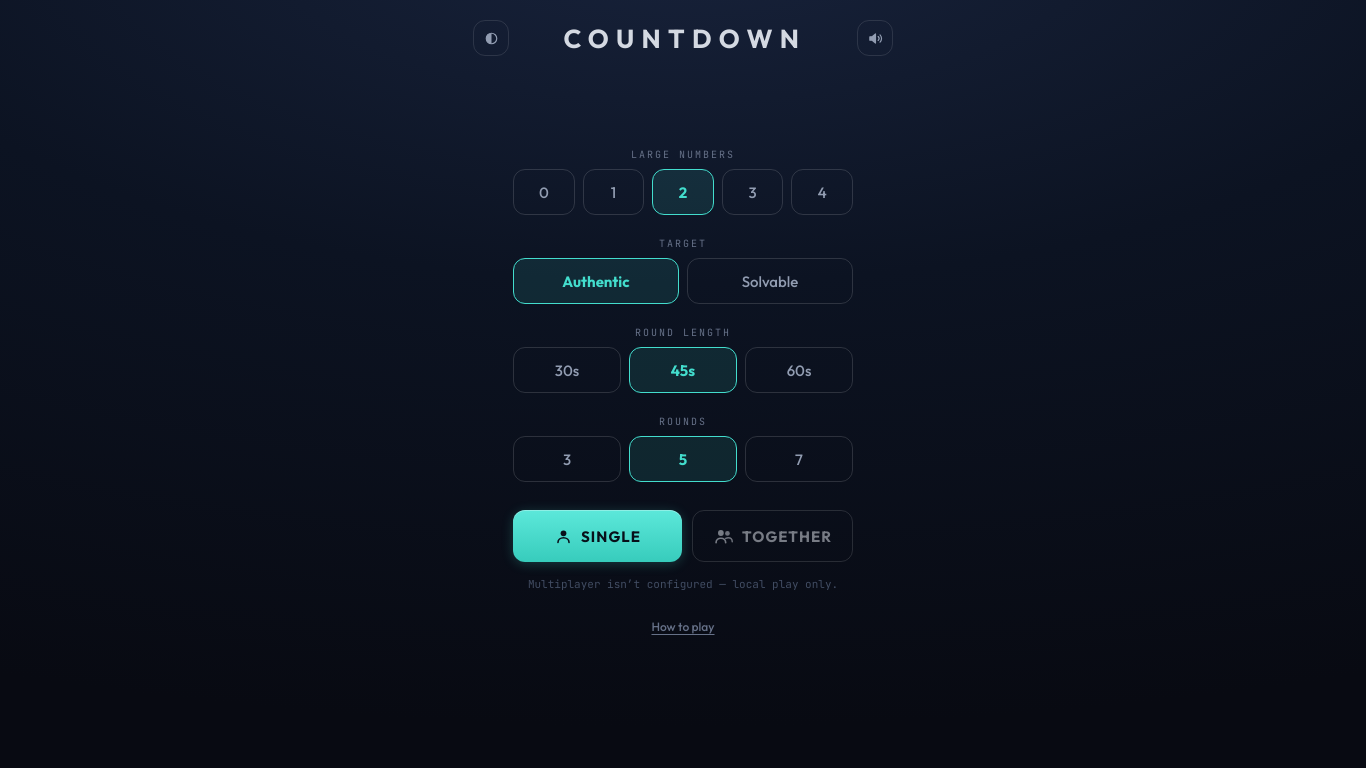
the game › deals six tiles and a target when a round starts
Click the button "Single": x=598, y=536 [513,510,682,562]
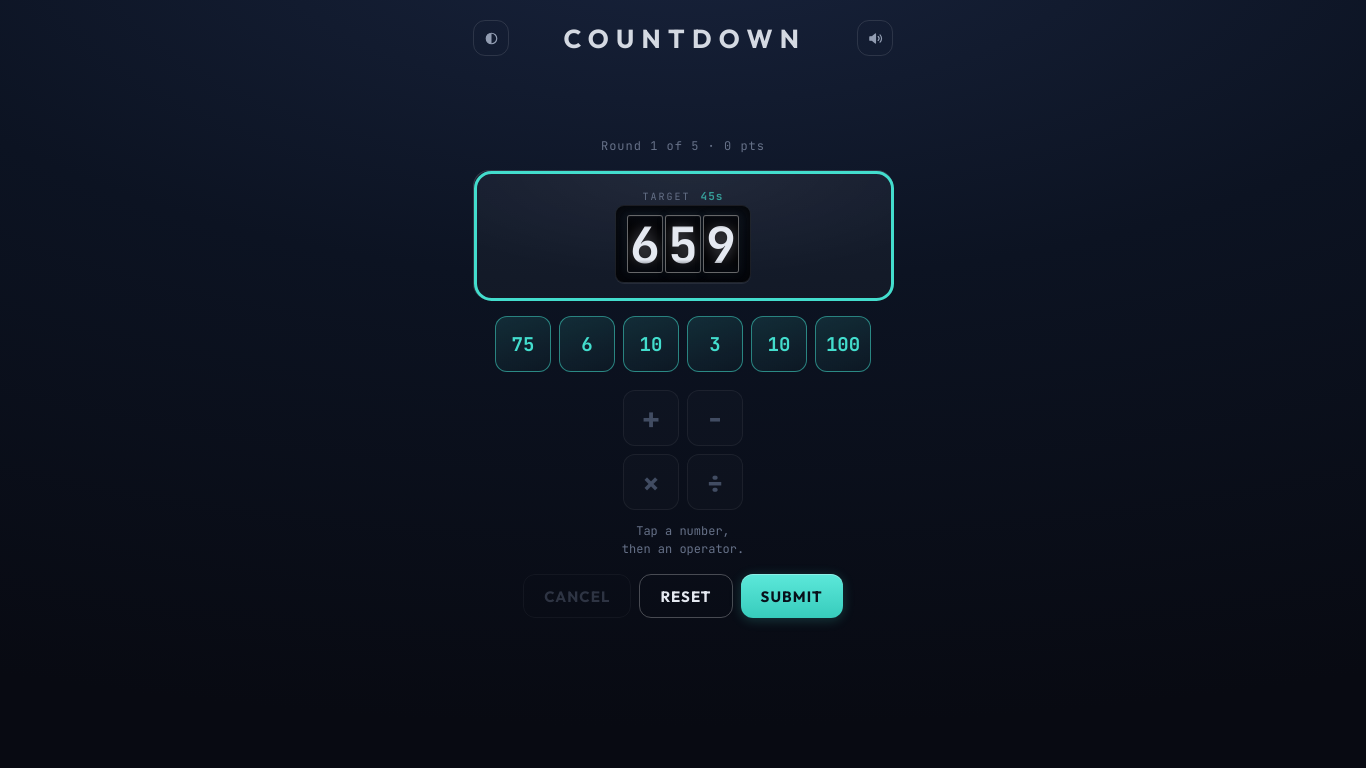
Check: the text "Target" is shown, box [643,190,691,203]
Check: the text "Tap a number,then an operator." is shown, box [622,522,744,558]
Check: the button "Submit" is shown, box [740,574,843,618]
